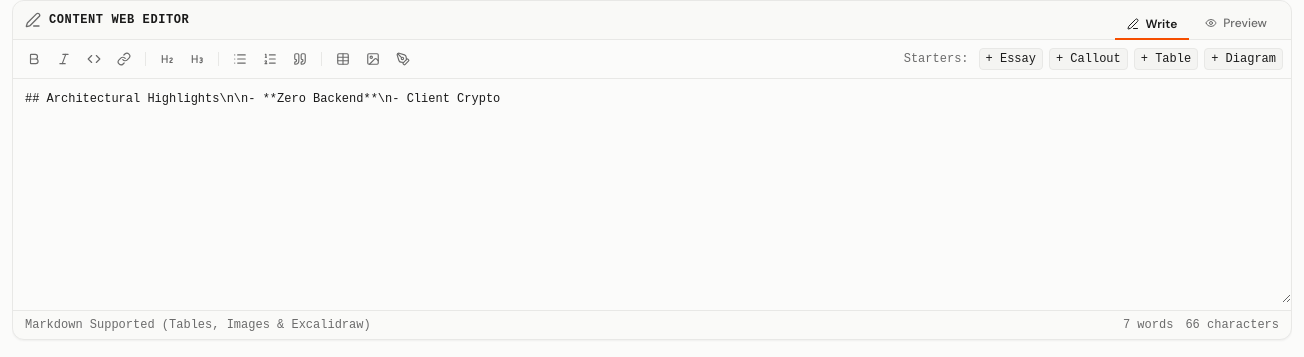
Scenario: WebEditor Admin Component › switches to preview mode and displays rendered markdown
This screenshot has width=1304, height=357.
What coordinates should you click on to do the following:
click the button "Preview"
I would click on:
 (1236, 24)
Its box is [1193,9,1279,39].
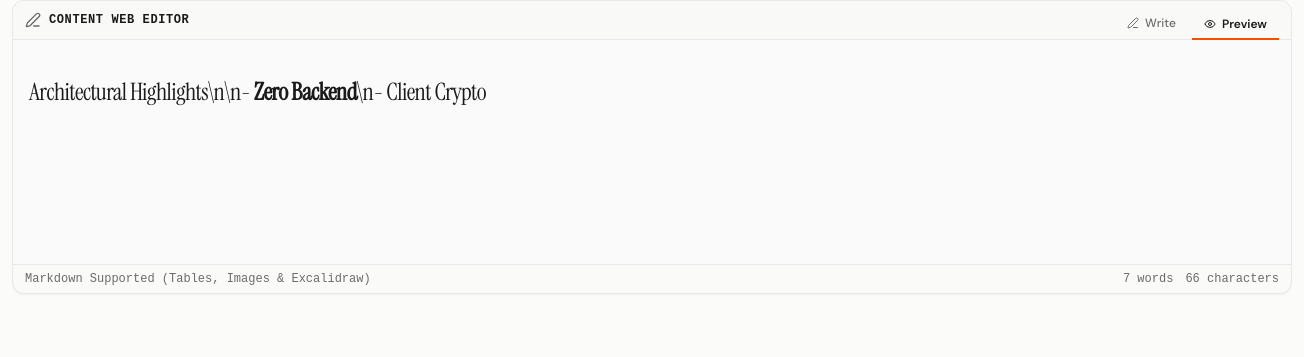
Expected: the heading "Architectural Highlights\\n\\n- Zero Backend\\n- Client Crypto" is shown, [29,76,486,107]
Expected: the text "Zero Backend" is shown, [254,76,357,107]
